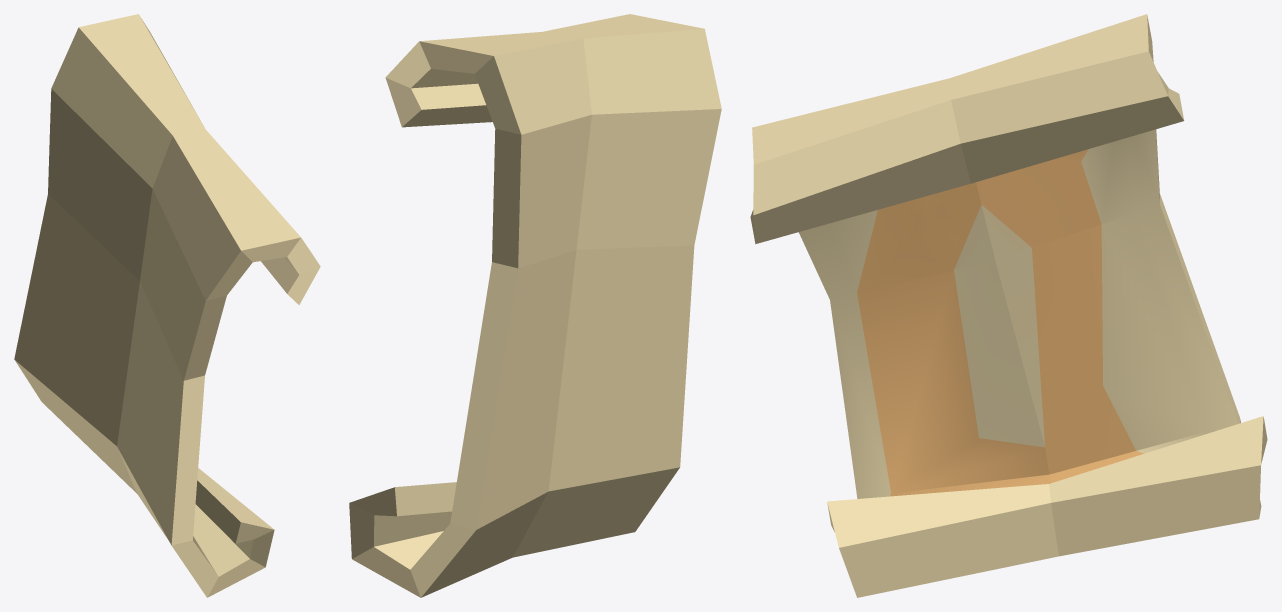
File: Mapa.FBX
3 views of the same model, side by side, from view 1: azimuth 30°, elevation 25°; view 2: azimuth 150°, elevation 25°; view 3: azimuth 270°, elevation 25° (orthographic). The views are drawn at different scales.
Visible parts, largest first — view 1: mapa; view 2: mapa; view 3: mapa.
Part boxes in pixels (x1,y1,x2,y2): mapa: (14,14,320,597); mapa: (349,14,721,597); mapa: (750,14,1267,597).
Size of the model in its own units: 73.77 by 254 by 308.
1 material, 1 textured.
